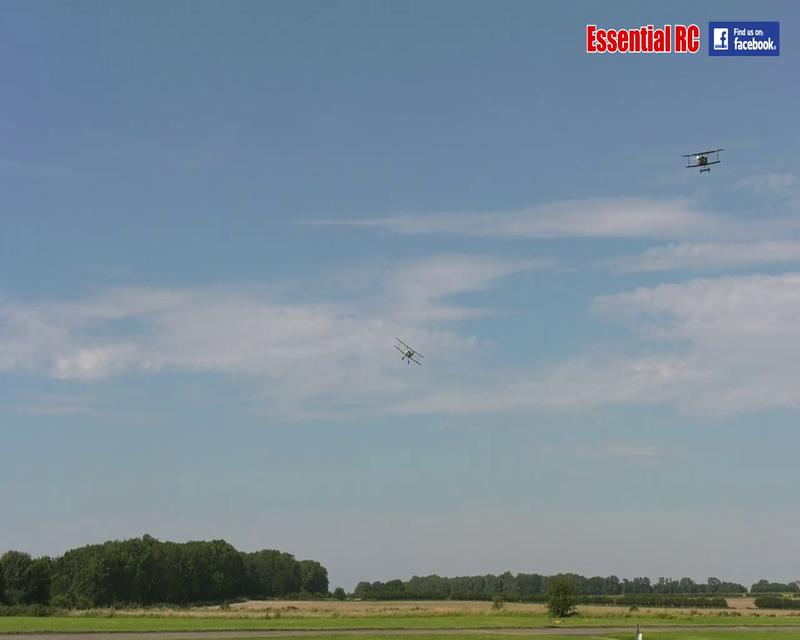UAV: (681, 147, 723, 174), (392, 338, 423, 366)
